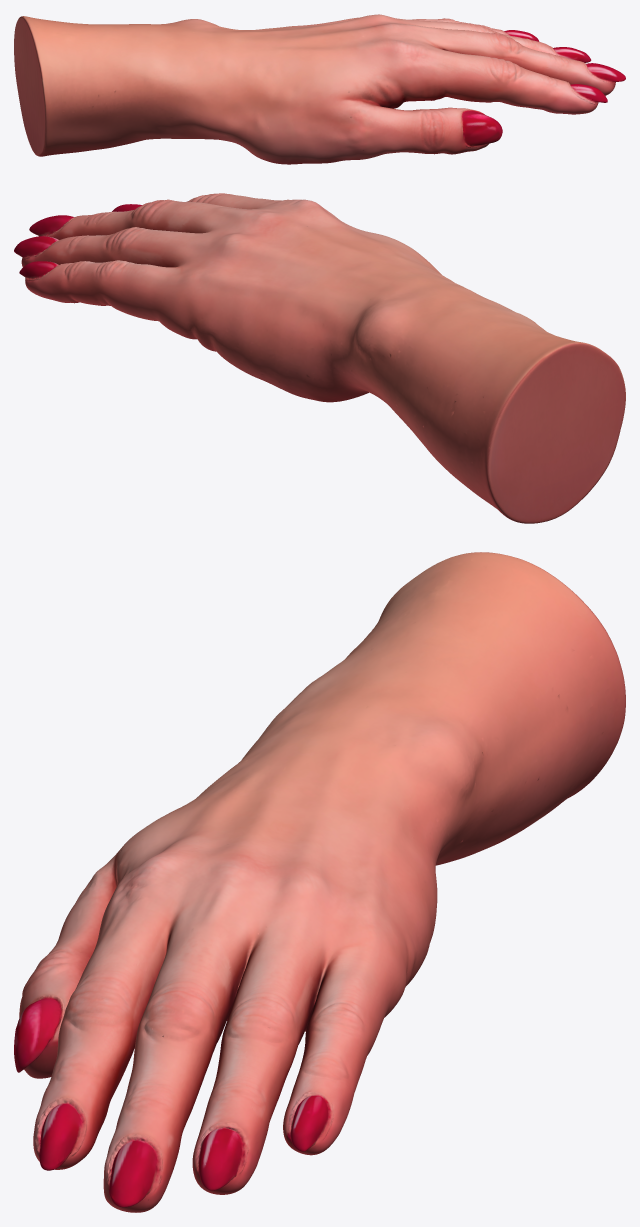
File: mao-hd.glb
The picture shows the model from 3 angles, top to bottom: view 1: azimuth 30°, elevation 25°; view 2: azimuth 150°, elevation 25°; view 3: azimuth 270°, elevation 25°; orthographic projection. The views are drawn at different scales.
Visible parts, largest first — view 1: mao_hd; view 2: mao_hd; view 3: mao_hd.
Boxes of the visible parts, x1,y1,x2,y2 form: mao_hd: (14, 14, 625, 164); mao_hd: (14, 193, 625, 523); mao_hd: (14, 552, 625, 1212).
Size of the model in its own units: 0.9795 by 0.2392 by 0.5383.
1 material, 1 textured.
